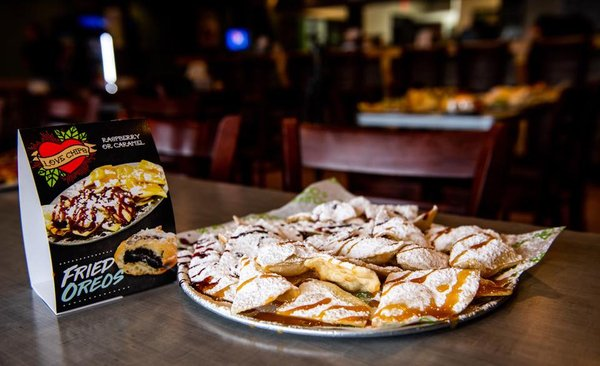curry: (1, 154, 595, 362), (43, 210, 599, 361)
pasta: (280, 119, 509, 216)
sandwich: (175, 179, 549, 329), (47, 160, 169, 240), (113, 228, 179, 276)
